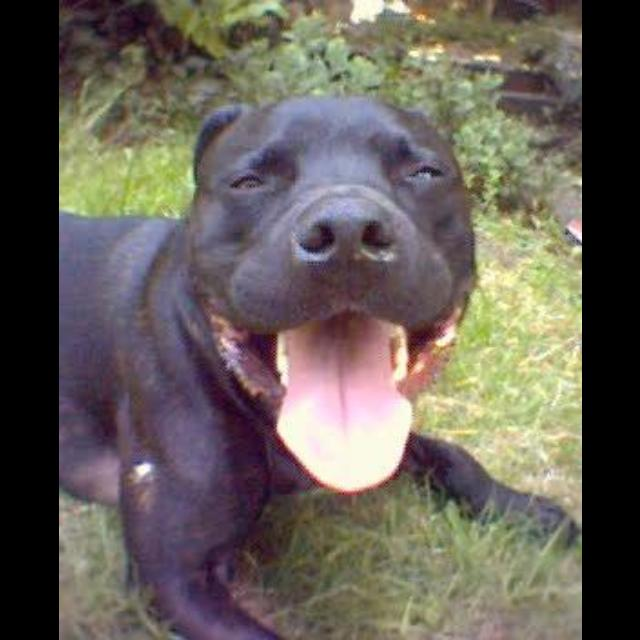amstaff: (60, 93, 581, 640)
